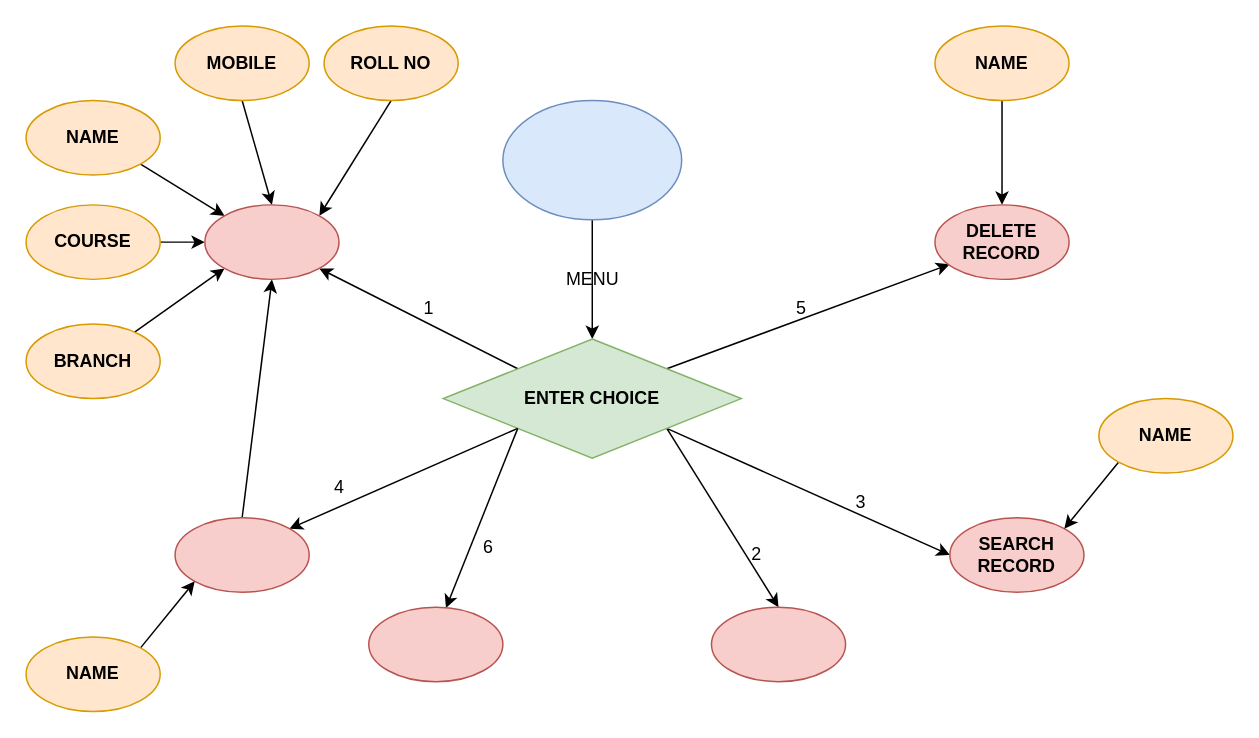
This 1259x738 diagram has some shape labels left out. Here are the shapes that lost their labels. From the top down, the centre of each, then its label:
point 591,159: START
point 271,241: ADD RECORD
point 241,554: MODIFY RECORD
point 435,644: EXIT
point 778,644: VIEW RECORD
